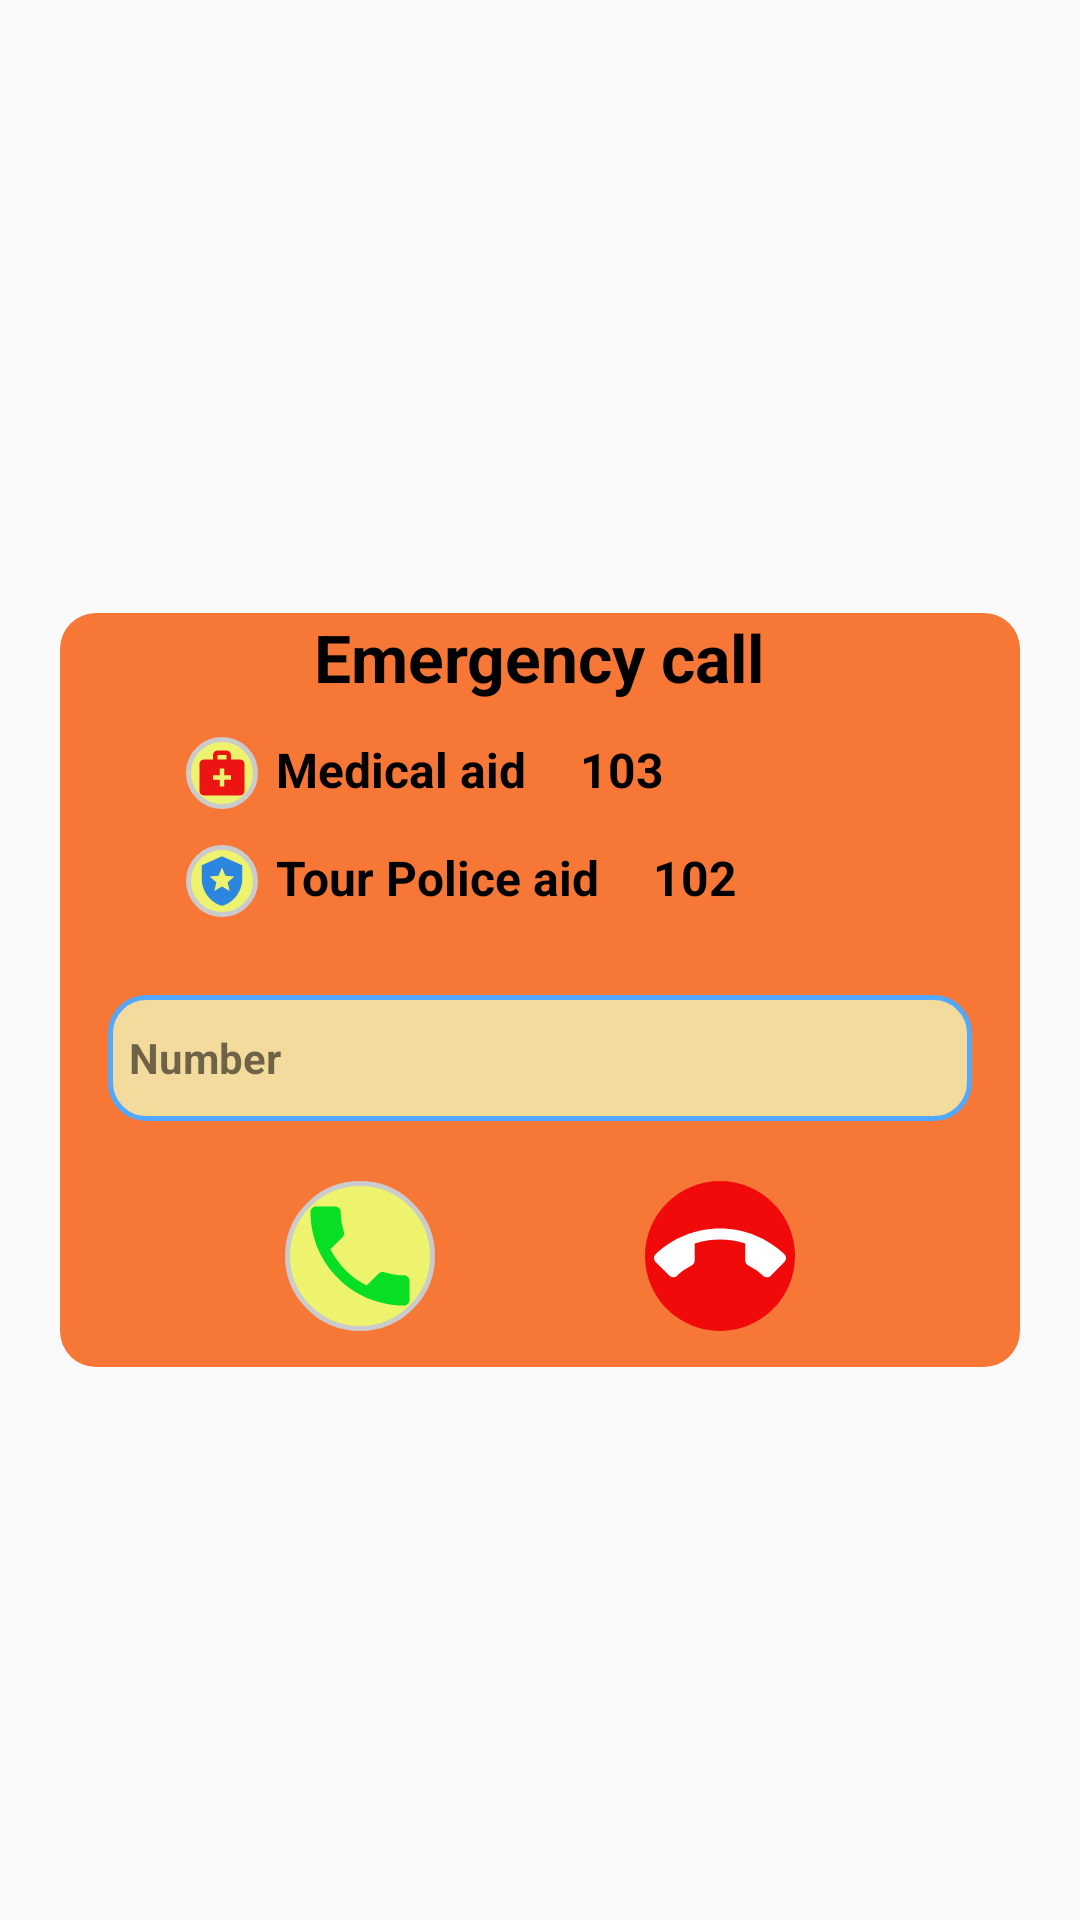

Where icons sit on this 1080*1920 app screen, as {"left": x1, "top": y1, "right": x2, "bottom": y2}:
call end: {"left": 645, "top": 1181, "right": 795, "bottom": 1331}
local phone: {"left": 285, "top": 1181, "right": 435, "bottom": 1331}
local police: {"left": 186, "top": 845, "right": 258, "bottom": 917}
medical services: {"left": 186, "top": 737, "right": 258, "bottom": 809}
